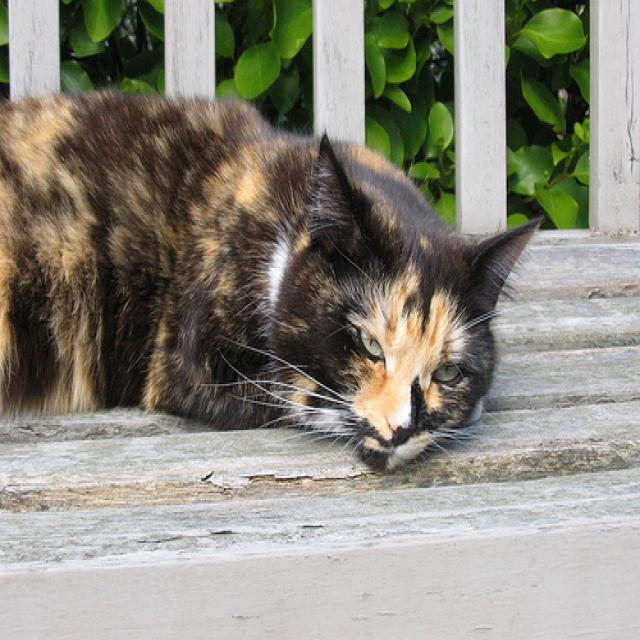cat: (1, 86, 540, 474)
